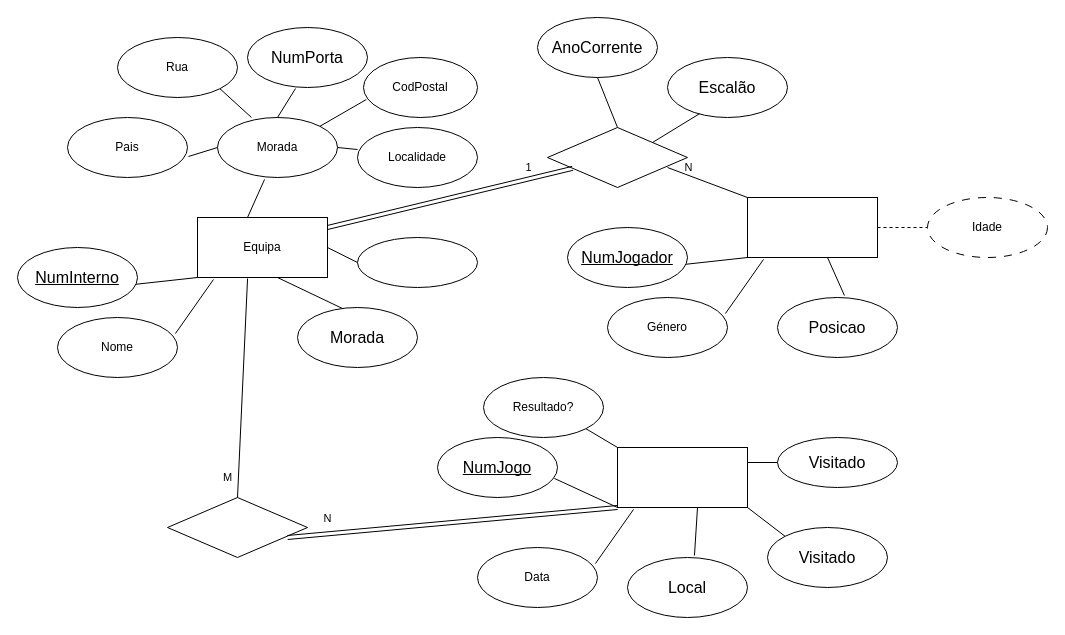
Some shapes in this 1065 by 635 pixel diagram are drawn without their labels. Here are the shapes that lost their labels. From the top down, the box of each, then its label:
(546, 126, 688, 188): FILIADO_A
(746, 196, 878, 258): Jogador
(356, 236, 478, 288): AnoFundacao
(616, 446, 748, 508): Jogo
(166, 496, 308, 558): JOGOU
